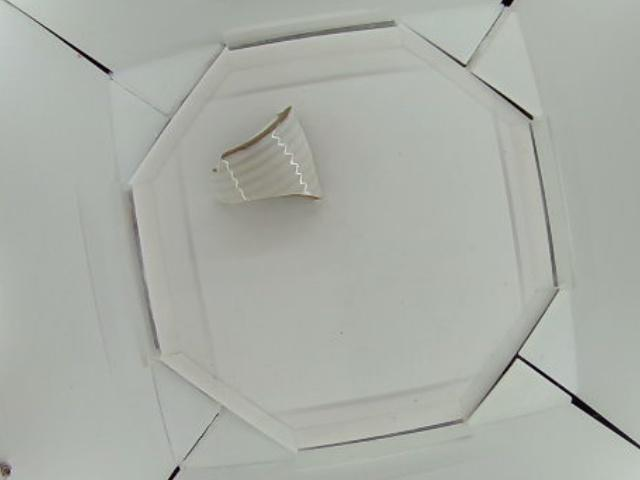China: (209, 106, 327, 204)
